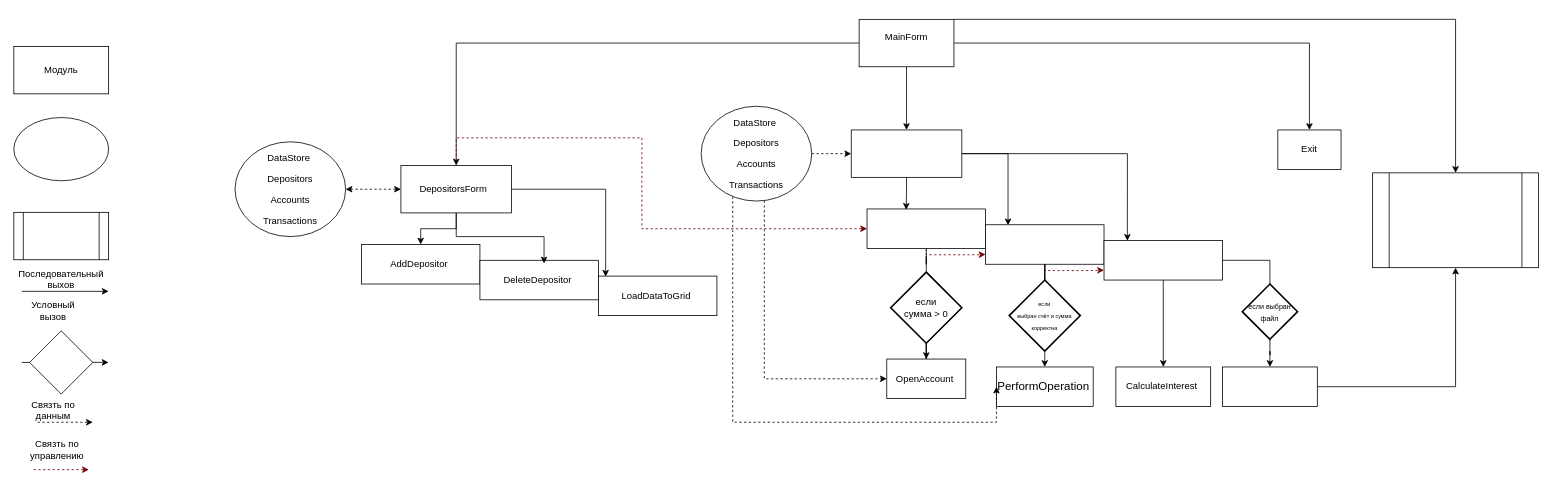
Image size: 1552x490. Some labels were removed from this diagram. Each missing label, with the centre of its shape:
".NET Libraries -System.Windows.Forms - System.IO - System.Linq" goes at point 1455,220.
"AccountsManager" goes at point 926,228.
"DepositsForm" goes at point 906,153.
"InterestCalculator" goes at point 1163,260.
"SaveContract" goes at point 1269,386.
"TransactionManager" goes at point 1044,244.
"Библеотека" goes at point 61,236.
"Область данных" goes at point 61,149.
